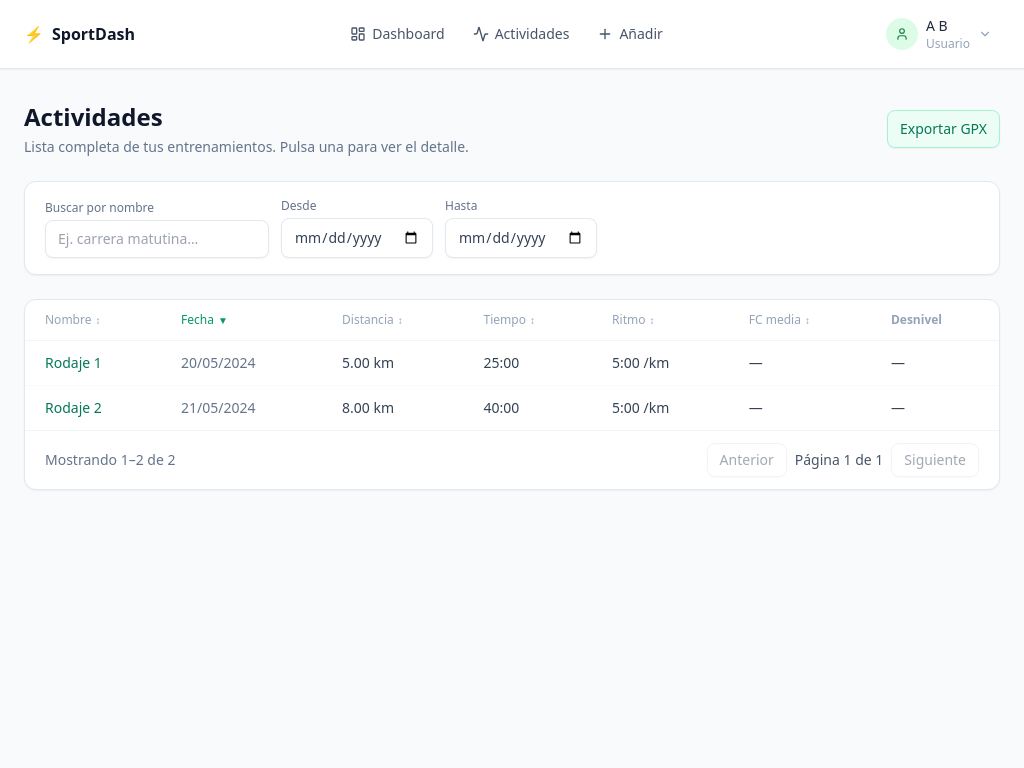
ActivitiesPage — modo selección y exportación GPX › "Cancelar" sale del modo selección y limpia las marcas
Expected: the link "Rodaje 1" is shown, [45, 353, 102, 372]
Click the button "Exportar GPX" at (944, 129), box [887, 110, 1000, 148]
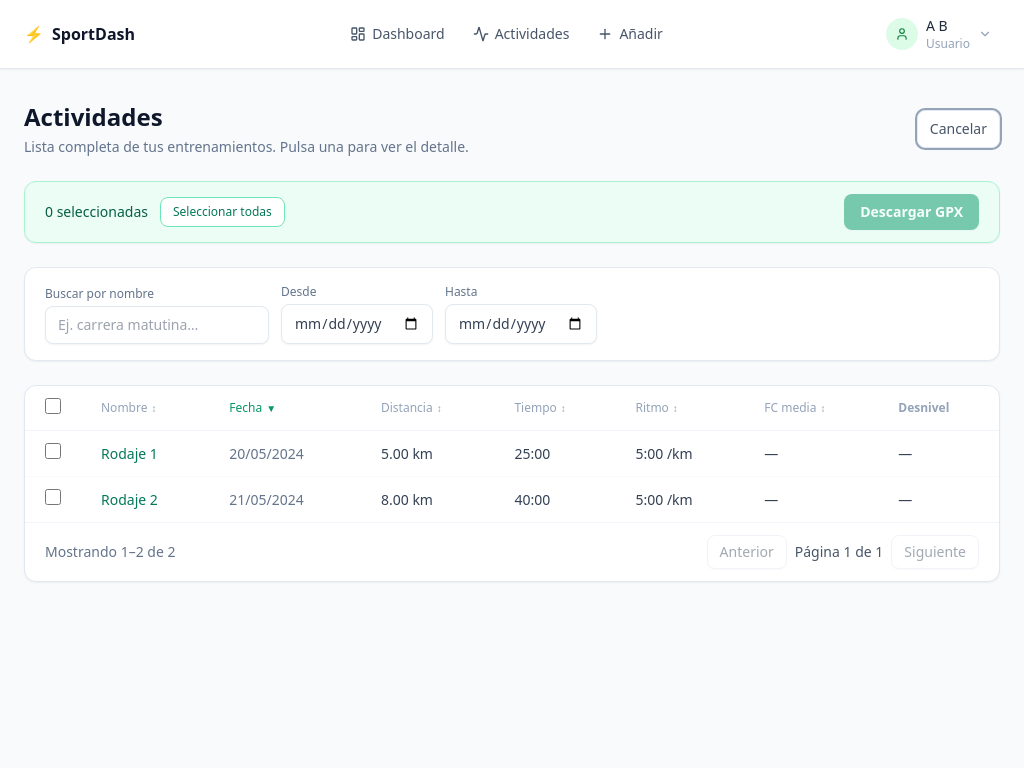
Click the checkbox named "Seleccionar actividad Rodaje 1" at (53, 451), box [45, 443, 61, 459]
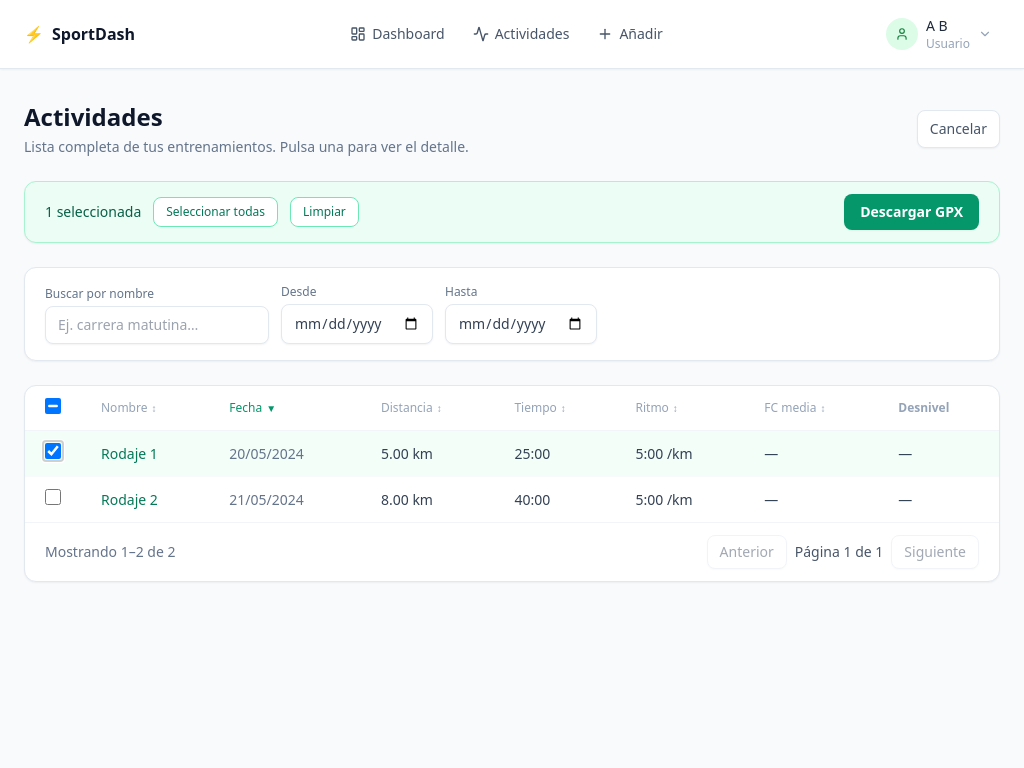
Click the button "Cancelar" at (958, 129), box [917, 110, 1000, 148]
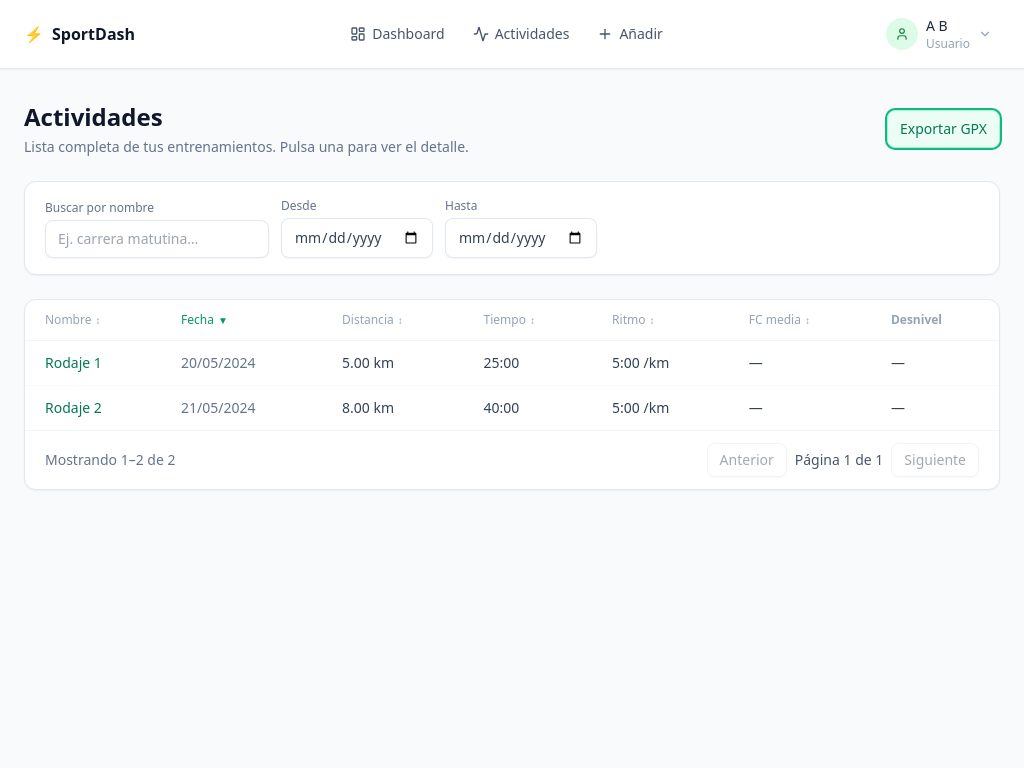
Expected: the button "Exportar GPX" is shown, [887, 110, 1000, 148]
